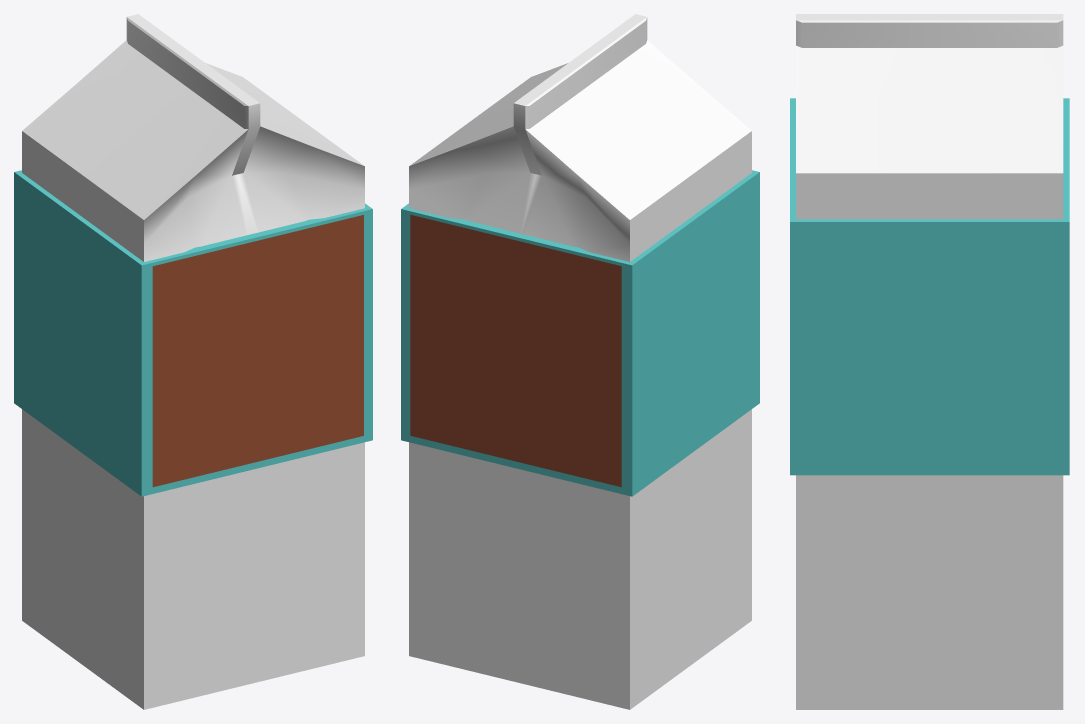
File: Milk.fbx
3 renders of one model, left to right at view 1: azimuth 30°, elevation 25°; view 2: azimuth 150°, elevation 25°; view 3: azimuth 270°, elevation 25°, orthographic. The views are drawn at different scales.
Parts seen in each view (by area): view 1: Box001, Plane001, Object001; view 2: Box001, Plane001, Object001; view 3: Box001, Object001.
Boxes of the visible parts, bbox=[...] form: Box001: bbox=[22, 14, 364, 709]; Plane001: bbox=[152, 215, 363, 487]; Object001: bbox=[14, 170, 372, 496]; Box001: bbox=[409, 14, 751, 709]; Plane001: bbox=[410, 214, 621, 487]; Object001: bbox=[401, 170, 759, 496]; Box001: bbox=[796, 14, 1063, 709]; Object001: bbox=[790, 98, 1069, 475].
Bounding box in the file's own units: 1.09 × 2.62 × 1.06.
